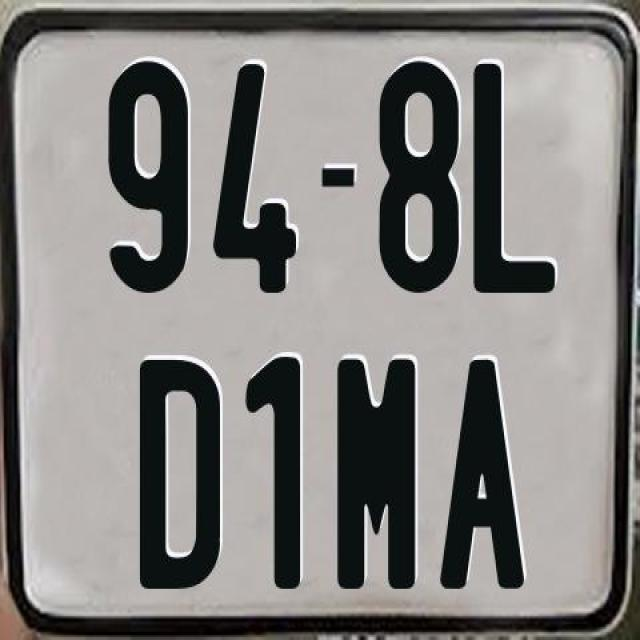1: (244, 355, 302, 592)
4: (213, 59, 296, 293)
8: (378, 59, 461, 301)
9: (106, 58, 186, 290)
A: (438, 358, 530, 588)
D: (138, 361, 222, 594)
L: (469, 64, 556, 293)
M: (334, 360, 420, 598)
